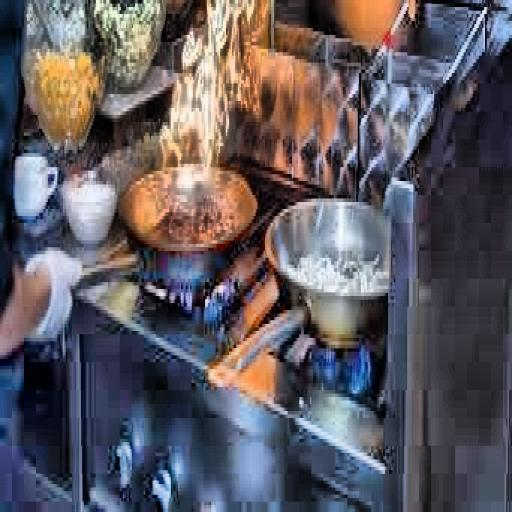fire: (148, 14, 264, 251)
